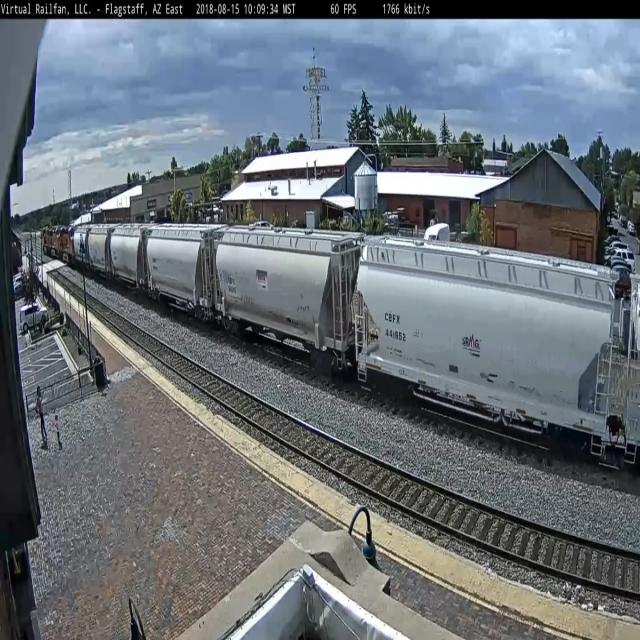hopper: (352, 227, 620, 481), (212, 218, 362, 382), (144, 219, 214, 329)
